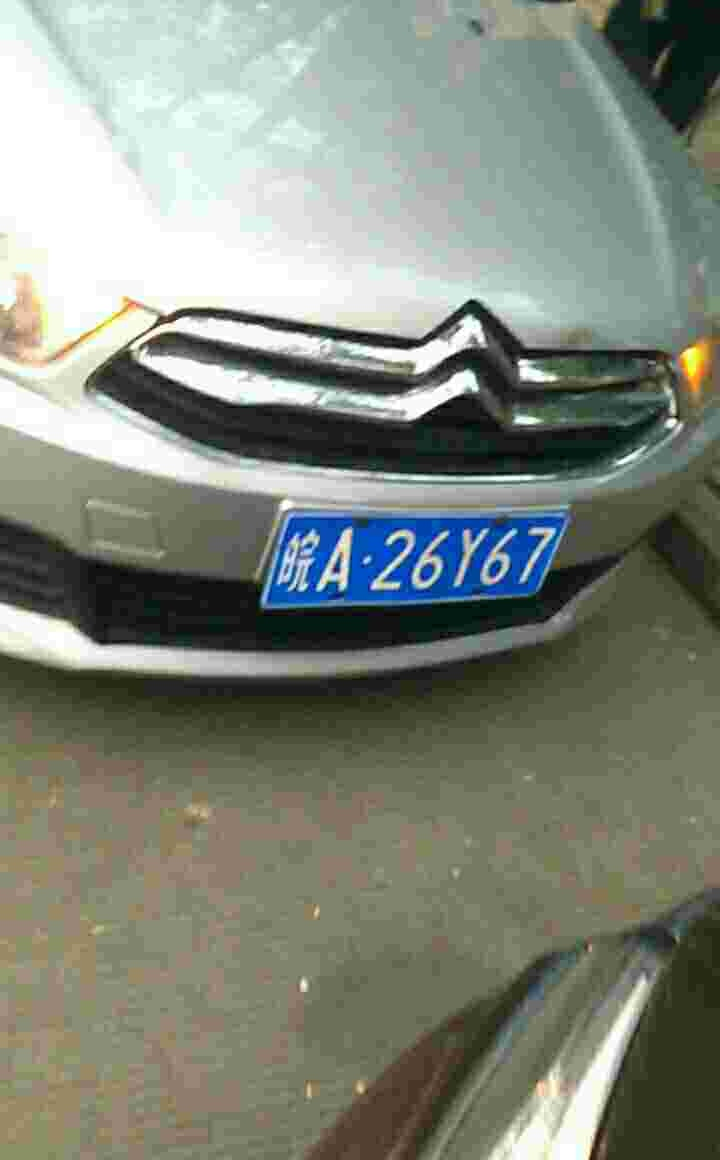license_plate: (260, 510, 581, 615)
